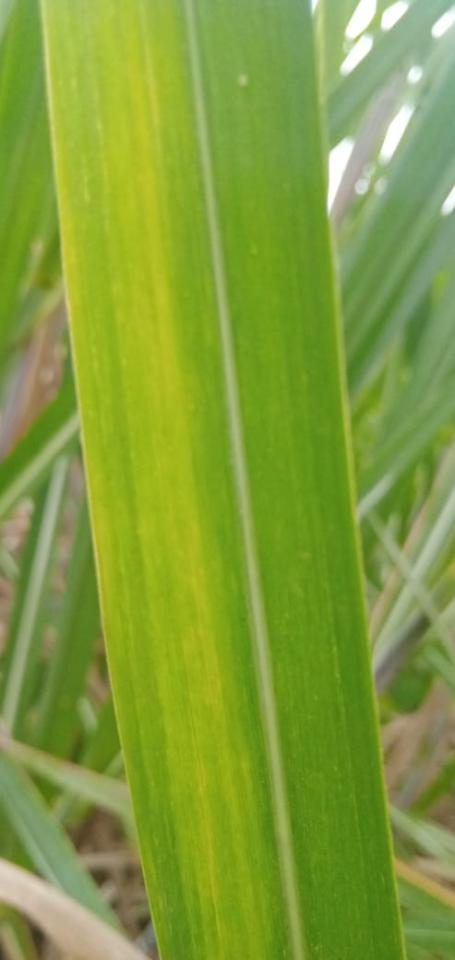Healthy: (42, 2, 407, 959)
